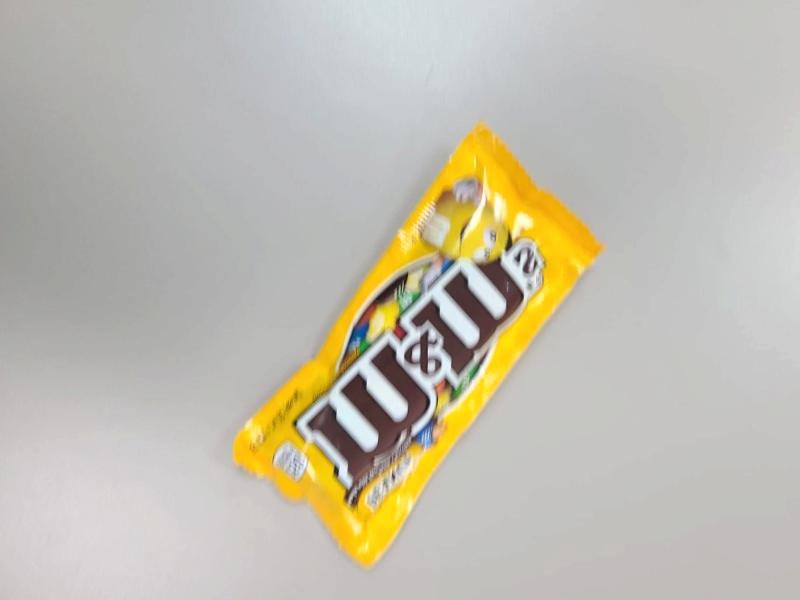m&m: (230, 207, 629, 573)
